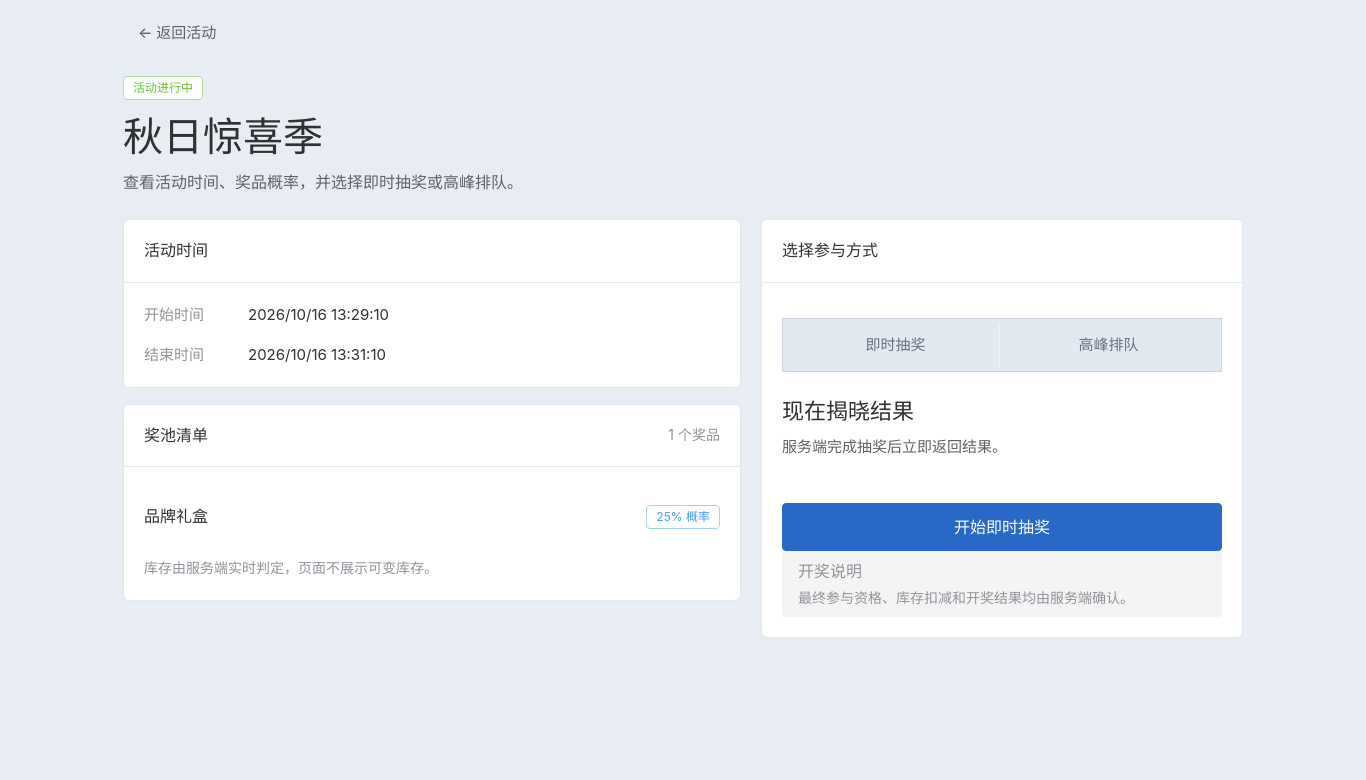
Test: user campaign detail and draw › accepts the high-peak queue and reuses its key after an uncertain response
Click the button "高峰排队" at (1108, 345), box [1004,323,1213,367]
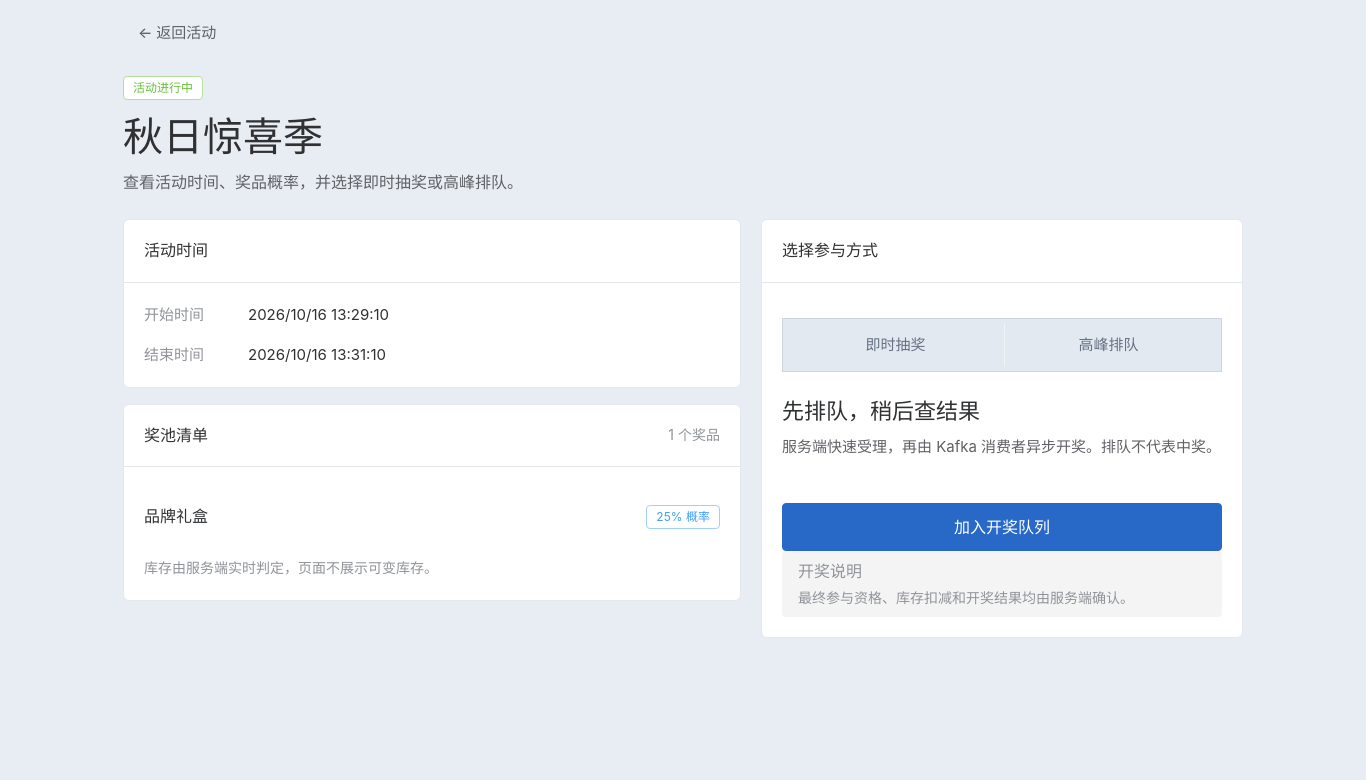
Click the button "加入开奖队列" at (1002, 527), box [782,503,1222,551]
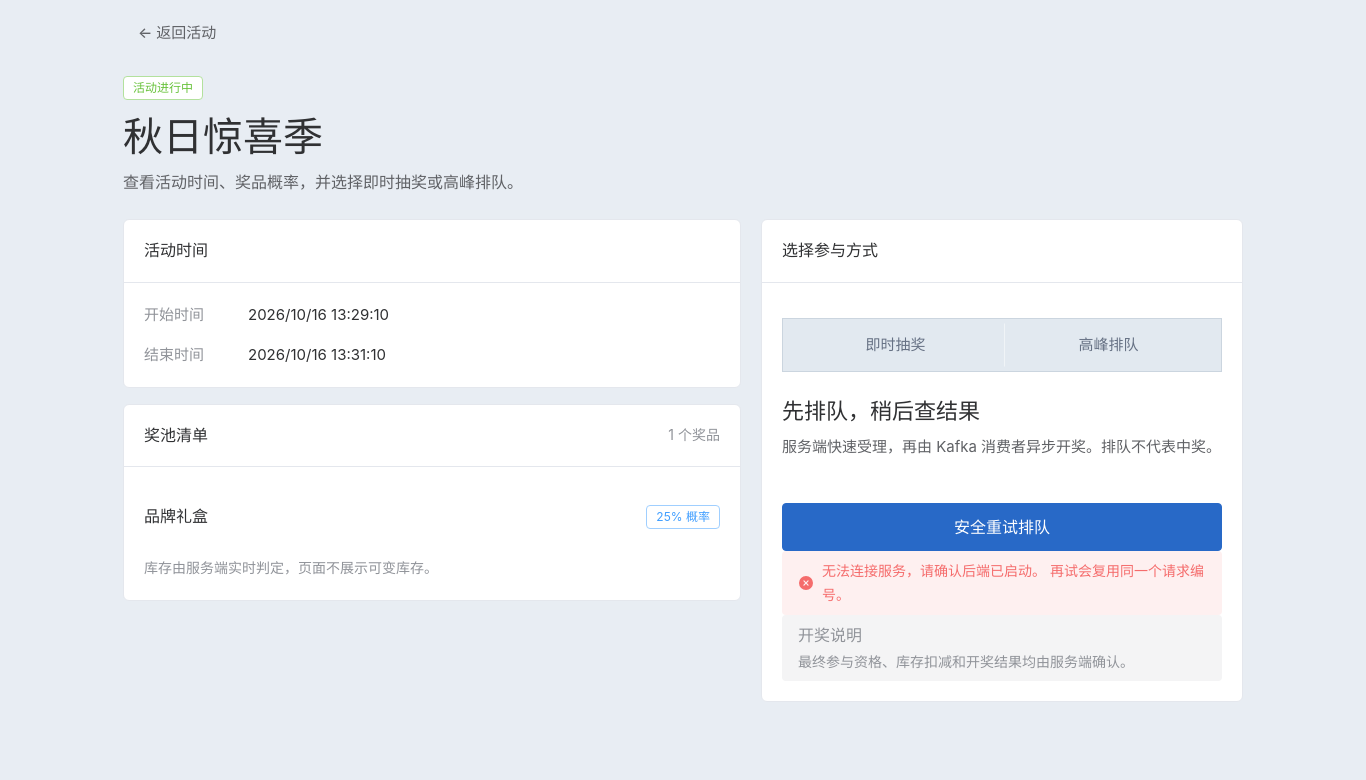
expect the message "无法连接服务，请确认后端已启动。 再试会复用同一个请求编号。" is shown: met, box [782,551,1222,615]
Click the button "安全重试排队" at (1002, 527), box [782,503,1222,551]
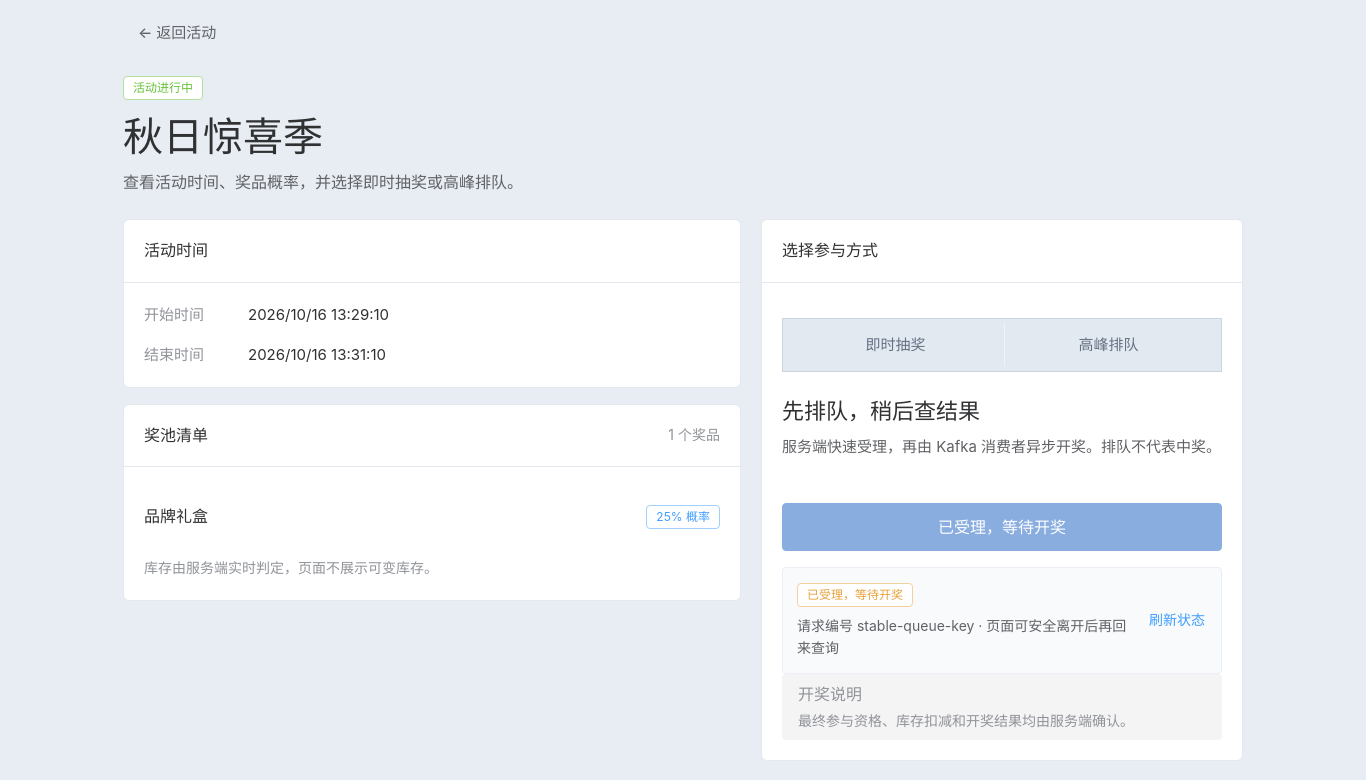
expect the message "已受理，等待开奖 请求编号 stable-queue-key · 页面可安全离开后再回来查询 刷新状态" is shown: met, box [782,567,1222,674]
